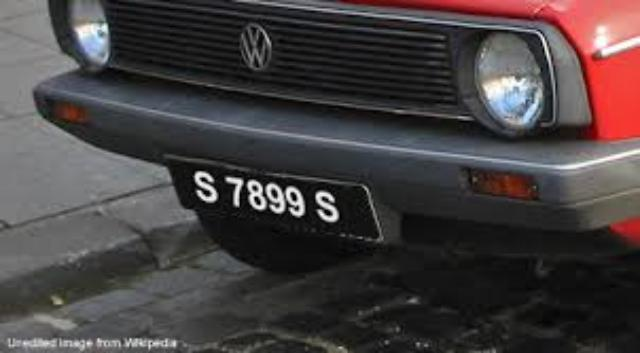License_Plate: (168, 152, 385, 248)
